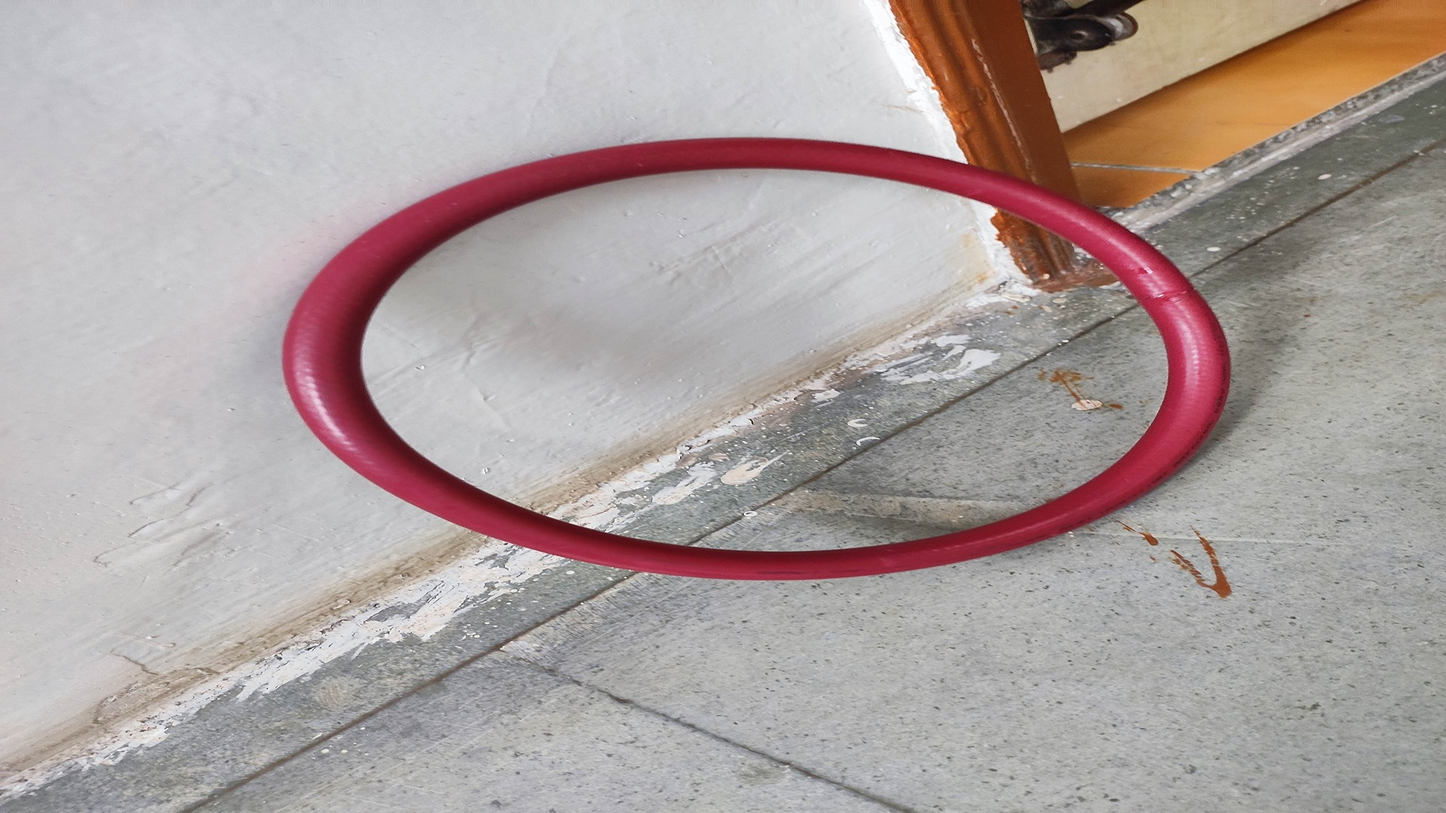Red ring: (281, 136, 1228, 579)
